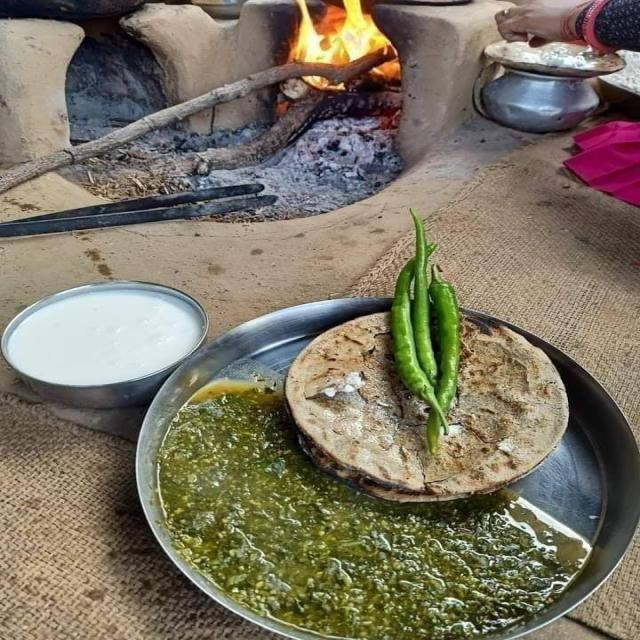fire: (285, 0, 403, 90)
